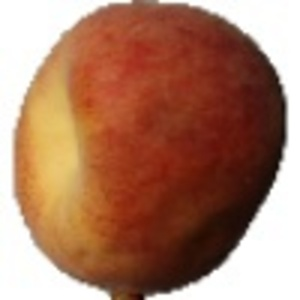pêssego: (11, 1, 288, 300)
